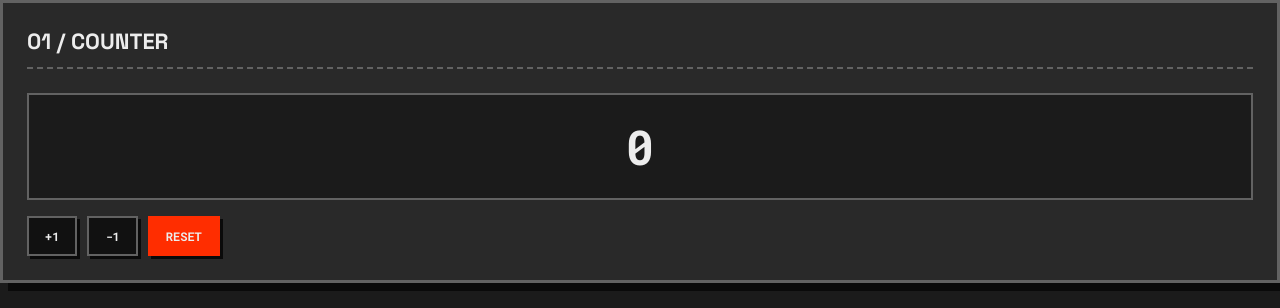
Test: Counter › збільшує та зменшує значення
This screenshot has width=1280, height=308.
Click the button "+1" at (52, 236), box x1=27 y1=216 x2=77 y2=256
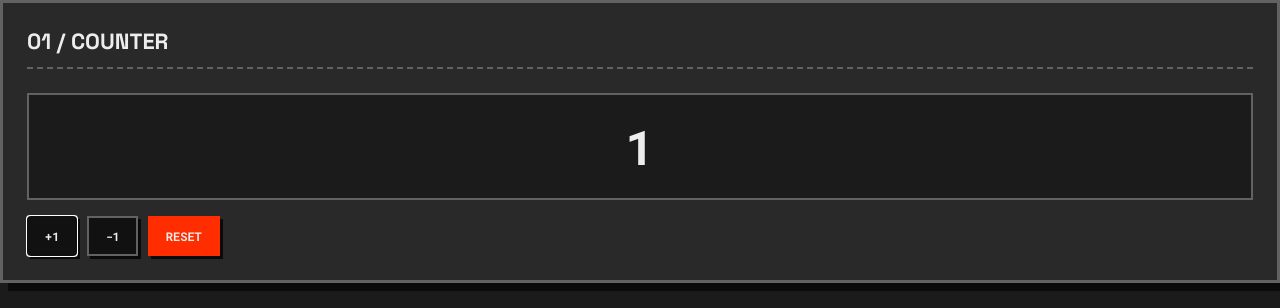
Expected: the text "1" is shown, x1=626 y1=115 x2=654 y2=178
Click the button "-1" at (113, 236), box x1=87 y1=216 x2=138 y2=256
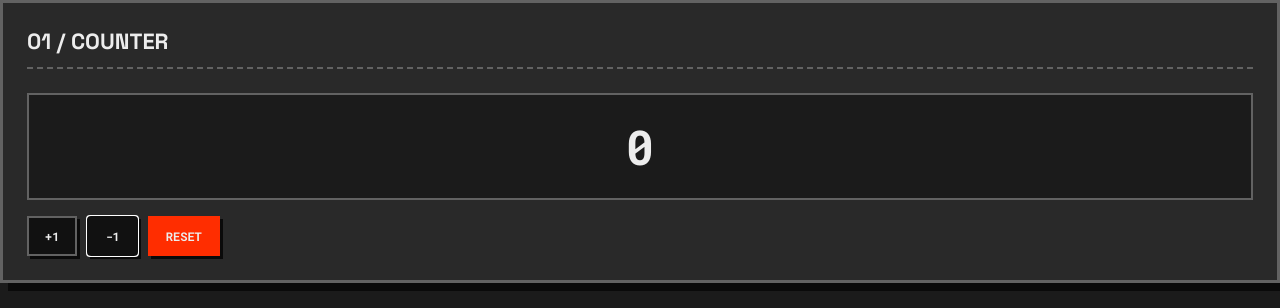
Expected: the text "0" is shown, x1=626 y1=115 x2=654 y2=178
